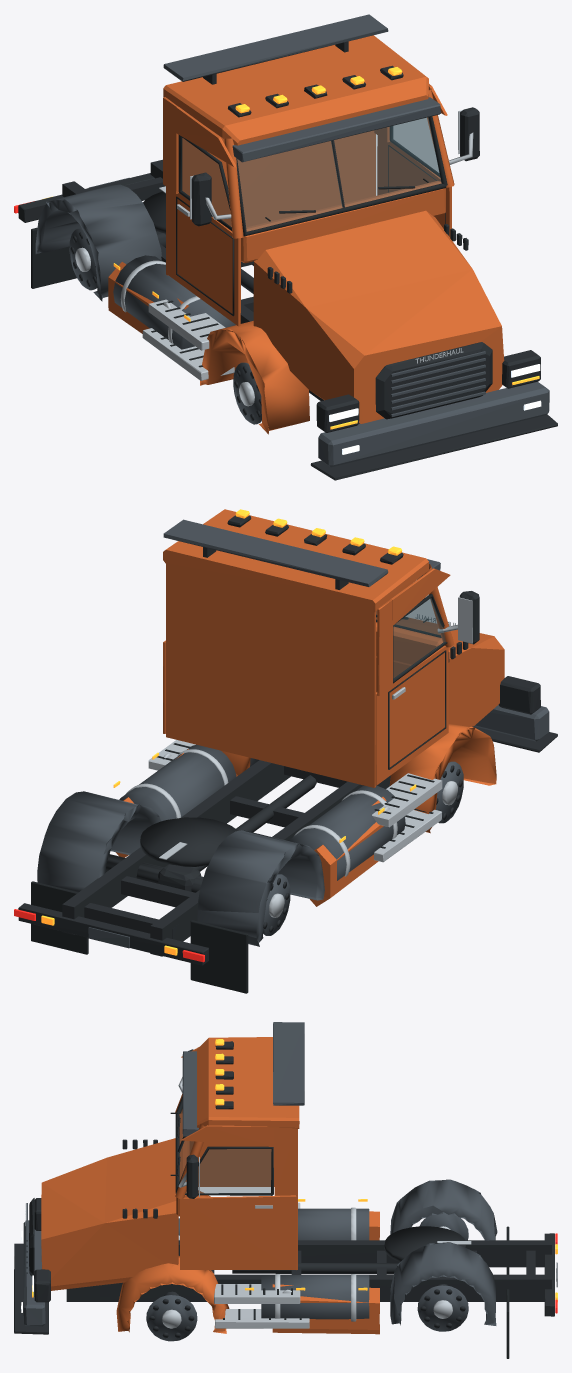
The model's file is Thunderhaul_LOD2.fbx.
3 renders of one model, top to bottom at view 1: azimuth 30°, elevation 25°; view 2: azimuth 150°, elevation 25°; view 3: azimuth 270°, elevation 25°, orthographic. The views are drawn at different scales.
Visible parts, largest first — view 1: CabExterior__TT_Paint_Primary.001, Chassis__TT_Paint_Primary.001, Chassis__TT_MetalTrim.001, CabExterior__TT_Glass.001, Chassis__TT_Chassis.001, CabExterior__TT_Rubber.001, CabExterior__TT_MetalTrim.001, CabExterior__TT_Chrome.001, CabExterior__TT_Chassis.001, Chassis__TT_Rubber.001, Wheel_FR__TT_MetalTrim.001, Wheel_RR__TT_MetalTrim.001 (+3 smaller); view 2: CabExterior__TT_Paint_Primary.001, Chassis__TT_MetalTrim.001, Chassis__TT_Chassis.001, Chassis__TT_Paint_Primary.001, Chassis__TT_Rubber.001, CabExterior__TT_Chrome.001, CabExterior__TT_Glass.001, CabExterior__TT_Rubber.001, Chassis__TT_Chrome.001, CabExterior__TT_Chassis.001, Wheel_FR__TT_MetalTrim.001, Wheel_RR__TT_MetalTrim.001 (+2 smaller); view 3: CabExterior__TT_Paint_Primary.001, Chassis__TT_Paint_Primary.001, Chassis__TT_MetalTrim.001, Chassis__TT_Chassis.001, CabExterior__TT_Glass.001, CabExterior__TT_Chrome.001, Wheel_RL__TT_MetalTrim.001, Wheel_FL__TT_MetalTrim.001, CabExterior__TT_Rubber.001, CabExterior__TT_MetalTrim.001, CabExterior__TT_Chassis.001, Chassis__TT_Chrome.001 (+2 smaller).
Boxes of the visible parts, x1,y1,x2,y2 form: CabExterior__TT_Paint_Primary.001: (163,35,454,326); Chassis__TT_Paint_Primary.001: (108,210,504,434); Chassis__TT_MetalTrim.001: (35,14,549,467); CabExterior__TT_Glass.001: (181,117,441,231); Chassis__TT_Chassis.001: (18,41,557,480); CabExterior__TT_Rubber.001: (151,116,447,367); CabExterior__TT_MetalTrim.001: (232,97,440,162); CabExterior__TT_Chrome.001: (142,132,473,380); CabExterior__TT_Chassis.001: (191,65,479,226); Chassis__TT_Rubber.001: (31,178,428,288); Wheel_FR__TT_MetalTrim.001: (233,362,261,424); Wheel_RR__TT_MetalTrim.001: (69,228,96,290); CabExterior__TT_Paint_Primary.001: (163,509,454,787); Chassis__TT_MetalTrim.001: (37,519,549,948); Chassis__TT_Chassis.001: (18,547,557,965); Chassis__TT_Paint_Primary.001: (116,611,504,906); Chassis__TT_Rubber.001: (31,618,428,993); CabExterior__TT_Chrome.001: (148,624,457,862); CabExterior__TT_Glass.001: (376,595,445,678); CabExterior__TT_Rubber.001: (157,594,447,848); Chassis__TT_Chrome.001: (126,614,455,876); CabExterior__TT_Chassis.001: (227,515,479,644); Wheel_FR__TT_MetalTrim.001: (436,761,463,823); Wheel_RR__TT_MetalTrim.001: (263,874,290,935); CabExterior__TT_Paint_Primary.001: (175,1037,299,1269); Chassis__TT_Paint_Primary.001: (41,1138,379,1334); Chassis__TT_MetalTrim.001: (23,1022,557,1326); Chassis__TT_Chassis.001: (14,1139,554,1334); CabExterior__TT_Glass.001: (179,1105,271,1192); CabExterior__TT_Chrome.001: (178,1077,309,1328); Wheel_RL__TT_MetalTrim.001: (417,1285,468,1331); Wheel_FL__TT_MetalTrim.001: (146,1295,197,1341); CabExterior__TT_Rubber.001: (175,1097,301,1319); CabExterior__TT_MetalTrim.001: (182,1051,198,1136); CabExterior__TT_Chassis.001: (177,1041,233,1198); Chassis__TT_Chrome.001: (25,1204,471,1321).
Size of the model in its own units: 311 by 329 by 638.
